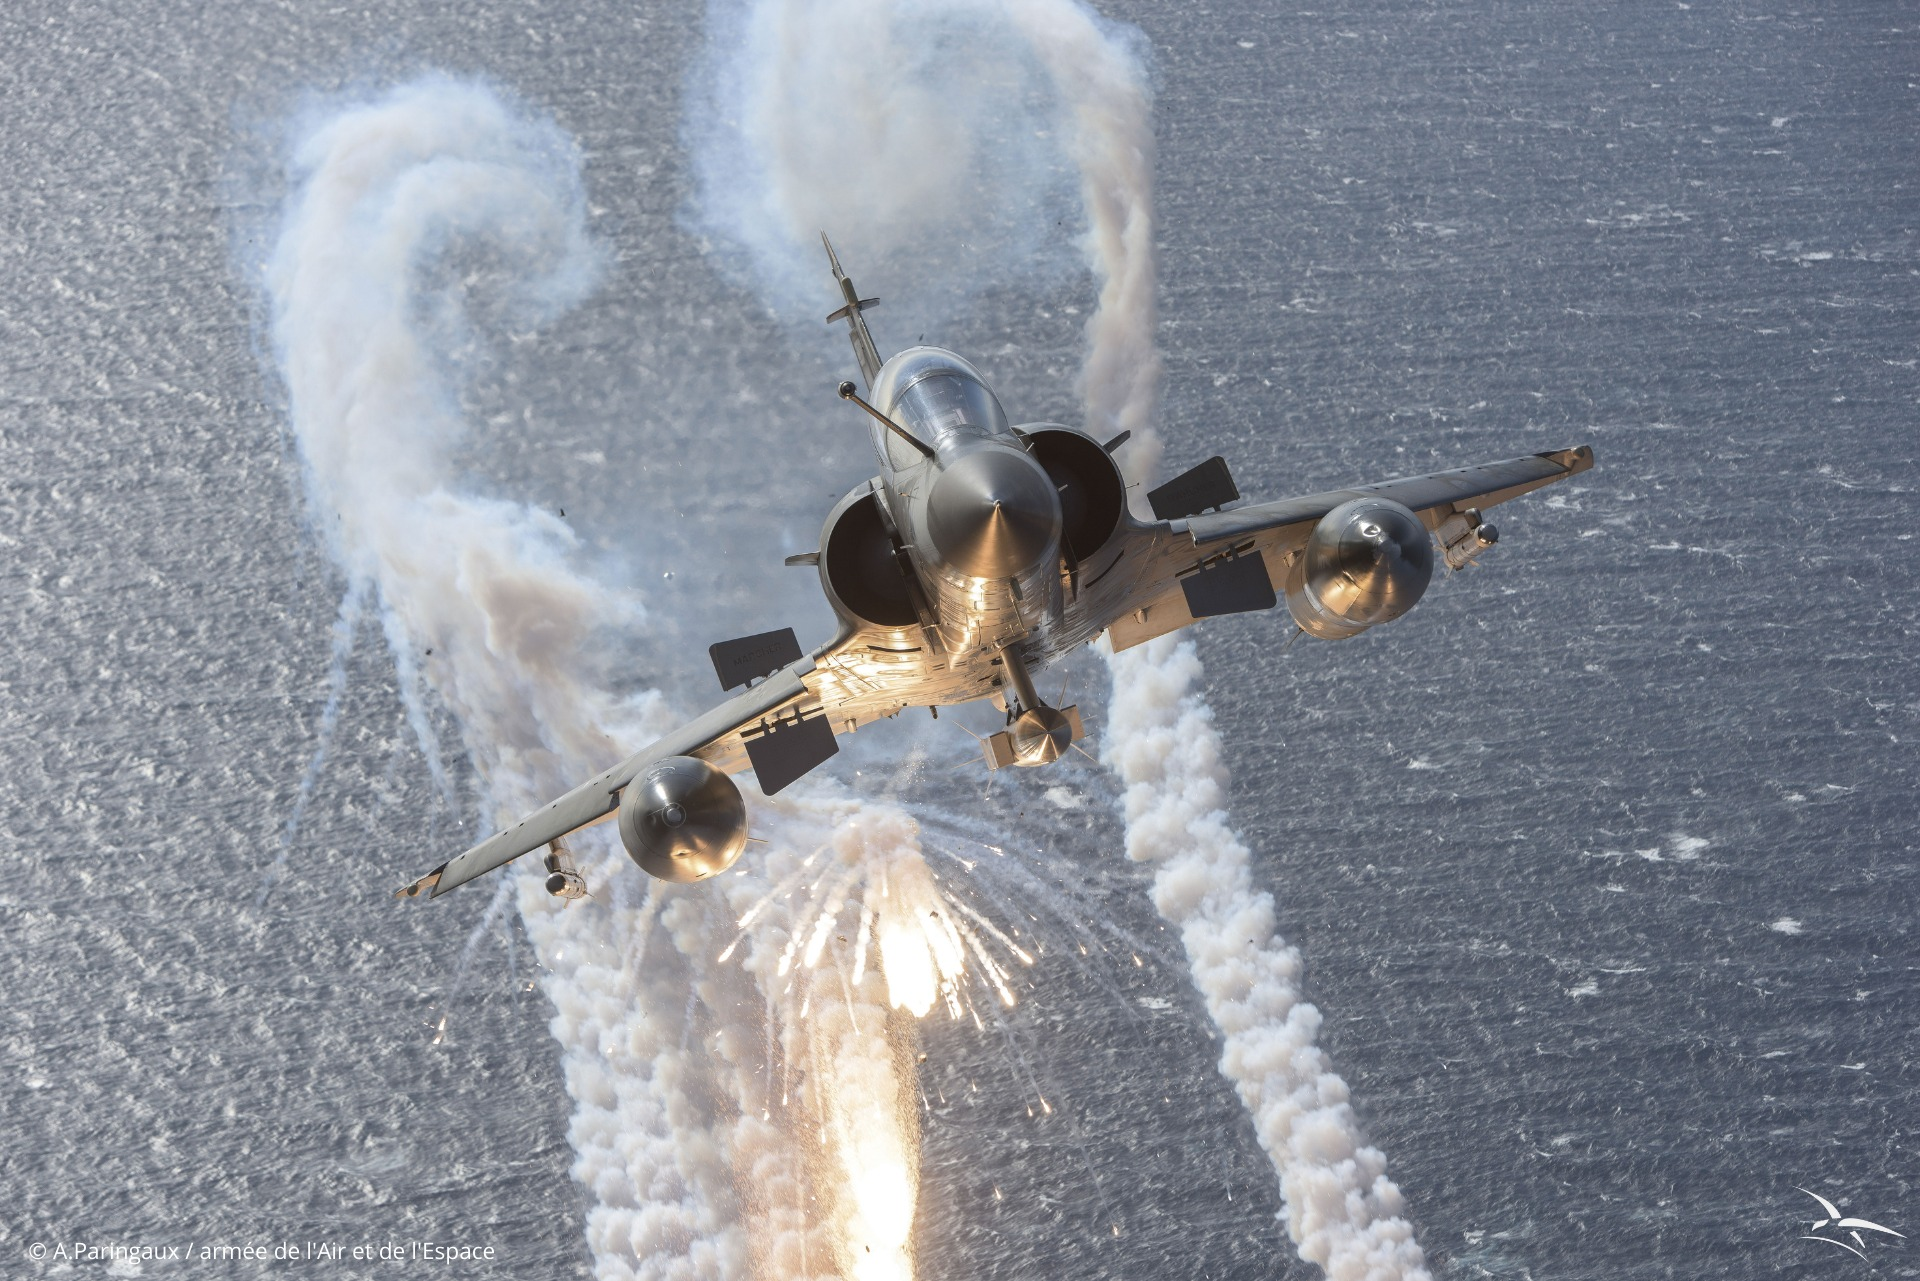Mirage2000: (393, 224, 1595, 909)
